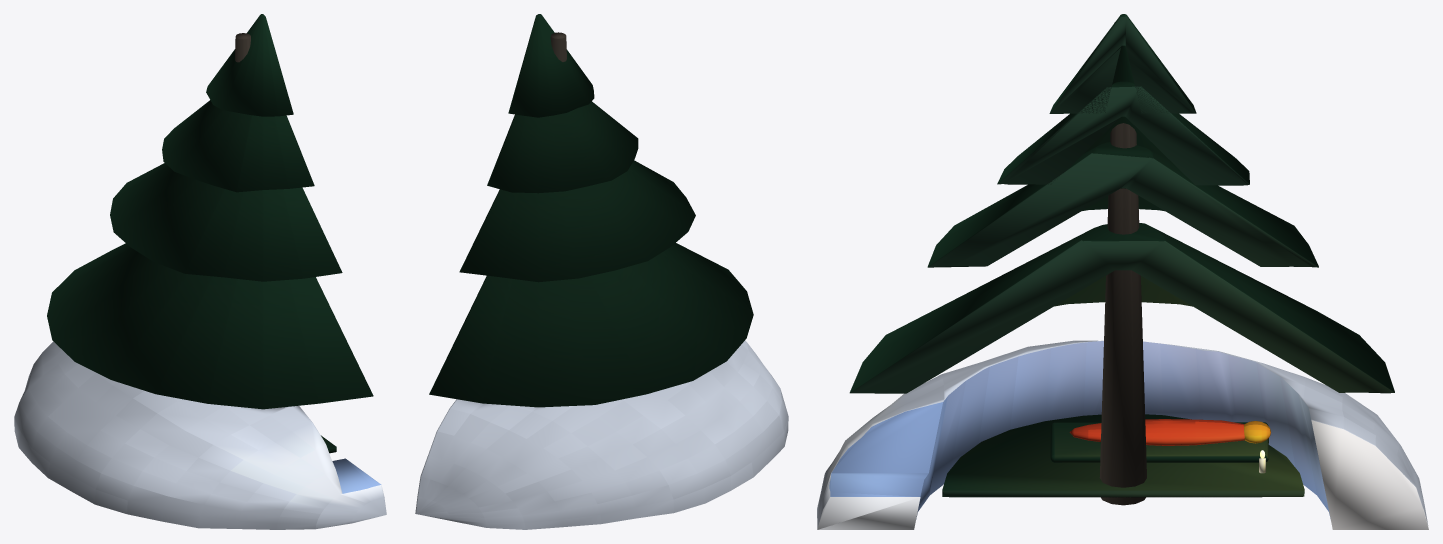
The model's file is TreeWell_section.glb.
3 renders of one model, left to right at view 1: azimuth 30°, elevation 25°; view 2: azimuth 150°, elevation 25°; view 3: azimuth 270°, elevation 25°, orthographic. The views are drawn at different scales.
Parts seen in each view (by area): view 1: sec_berm, sec_tier0, sec_tier1, sec_tier2, sec_tier3; view 2: sec_berm, sec_tier0, sec_tier1, sec_tier2, sec_tier3; view 3: sec_berm, sec_tier0, sec_tier1, sec_floor, sec_tier2, sec_trunk, sec_tier3, sec_bed, sec_bag.
Boxes of the visible parts, x1=… form: sec_berm: x1=14, y1=341, x2=386, y2=529; sec_tier0: x1=47, y1=243, x2=373, y2=409; sec_tier1: x1=110, y1=163, x2=342, y2=281; sec_tier2: x1=162, y1=100, x2=314, y2=192; sec_tier3: x1=206, y1=14, x2=293, y2=116; sec_berm: x1=415, y1=340, x2=788, y2=529; sec_tier0: x1=429, y1=243, x2=753, y2=407; sec_tier1: x1=459, y1=160, x2=695, y2=282; sec_tier2: x1=487, y1=101, x2=638, y2=193; sec_tier3: x1=508, y1=14, x2=594, y2=117; sec_berm: x1=817, y1=340, x2=1428, y2=529; sec_tier0: x1=849, y1=223, x2=1394, y2=393; sec_tier1: x1=927, y1=142, x2=1318, y2=267; sec_floor: x1=942, y1=414, x2=1304, y2=497; sec_tier2: x1=997, y1=81, x2=1249, y2=185; sec_trunk: x1=1099, y1=22, x2=1146, y2=505; sec_tier3: x1=1049, y1=14, x2=1196, y2=113; sec_bed: x1=1050, y1=422, x2=1268, y2=462; sec_bag: x1=1069, y1=419, x2=1244, y2=445.
Size of the model in its own units: 2.58 by 4.69 by 5.06.
